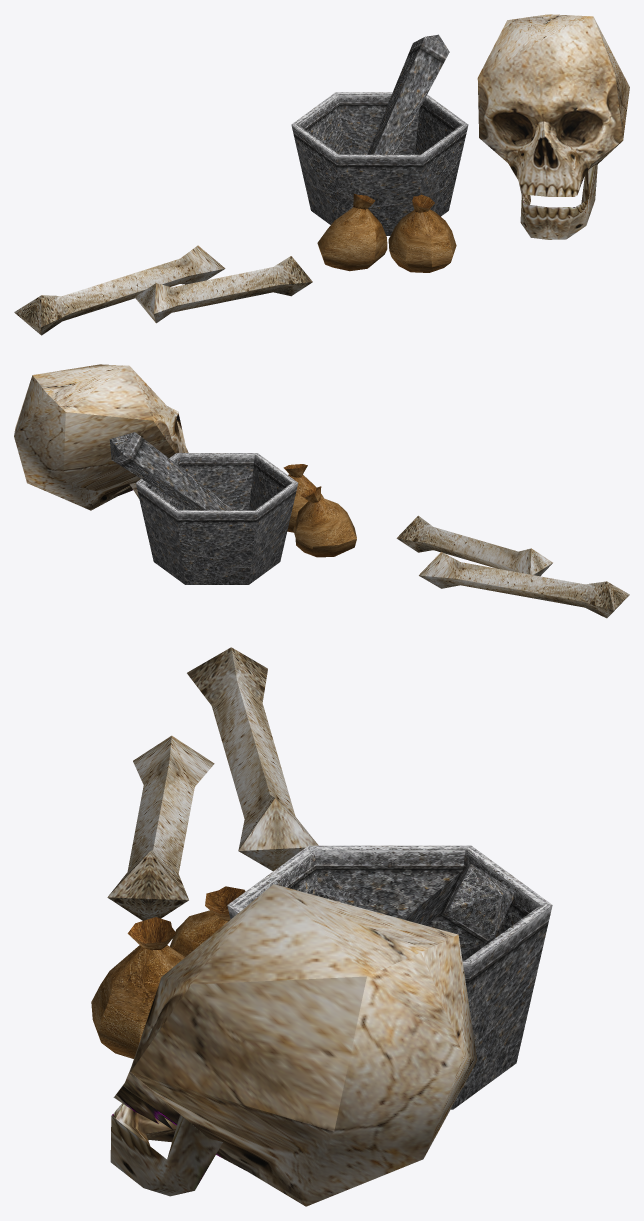
File: mm9_deco_shelfitem02ha.glb
The picture shows the model from 3 angles, top to bottom: view 1: azimuth 30°, elevation 25°; view 2: azimuth 150°, elevation 25°; view 3: azimuth 270°, elevation 25°; orthographic projection. The views are drawn at different scales.
Visible parts, largest first — view 1: Shelfitem02ha; view 2: Shelfitem02ha; view 3: Shelfitem02ha.
Part boxes in pixels (<box>): Shelfitem02ha: <box>14,14,629,335</box>; Shelfitem02ha: <box>14,364,629,618</box>; Shelfitem02ha: <box>91,647,552,1206</box>.
Bounding box in the file's own units: 1.14 × 0.2787 × 0.3904.
Materials: 2 (2 with a texture image).
